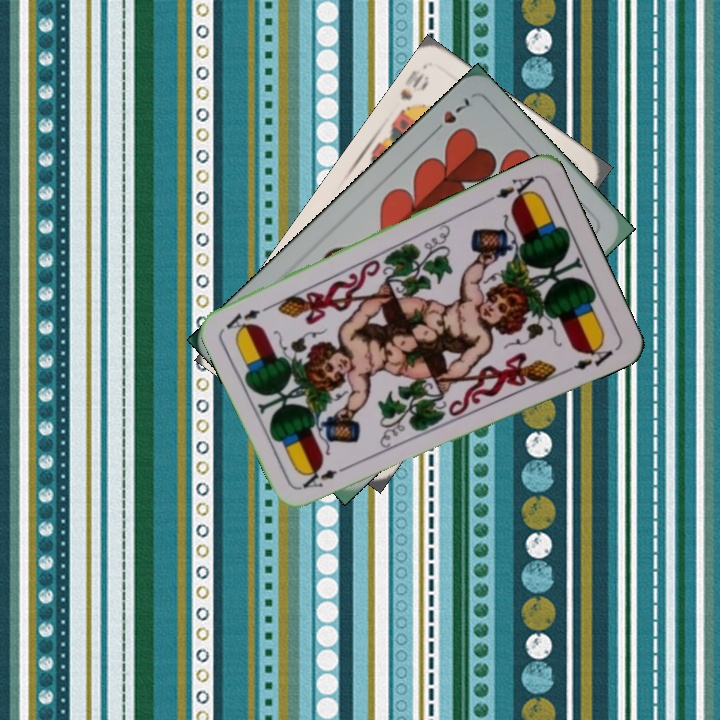EA: (484, 171, 539, 205), (298, 460, 354, 491)
H7: (427, 94, 474, 139)
S10: (394, 65, 432, 119)
